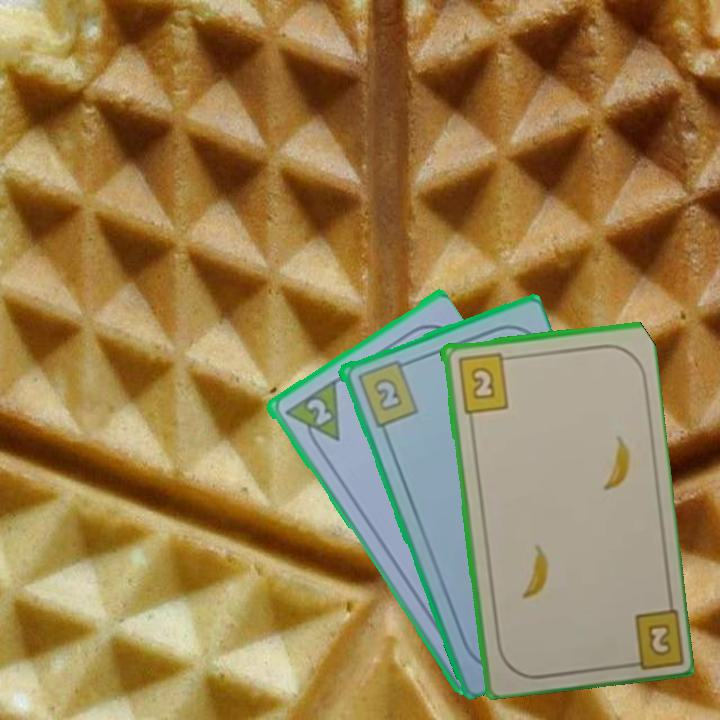2b: (353, 356, 421, 430), (618, 603, 684, 670), (454, 349, 515, 415)
2p: (302, 394, 334, 428)
